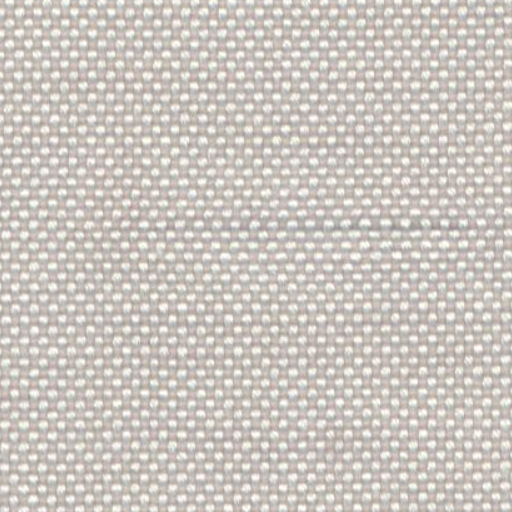WuZi: (256, 211, 468, 235)
